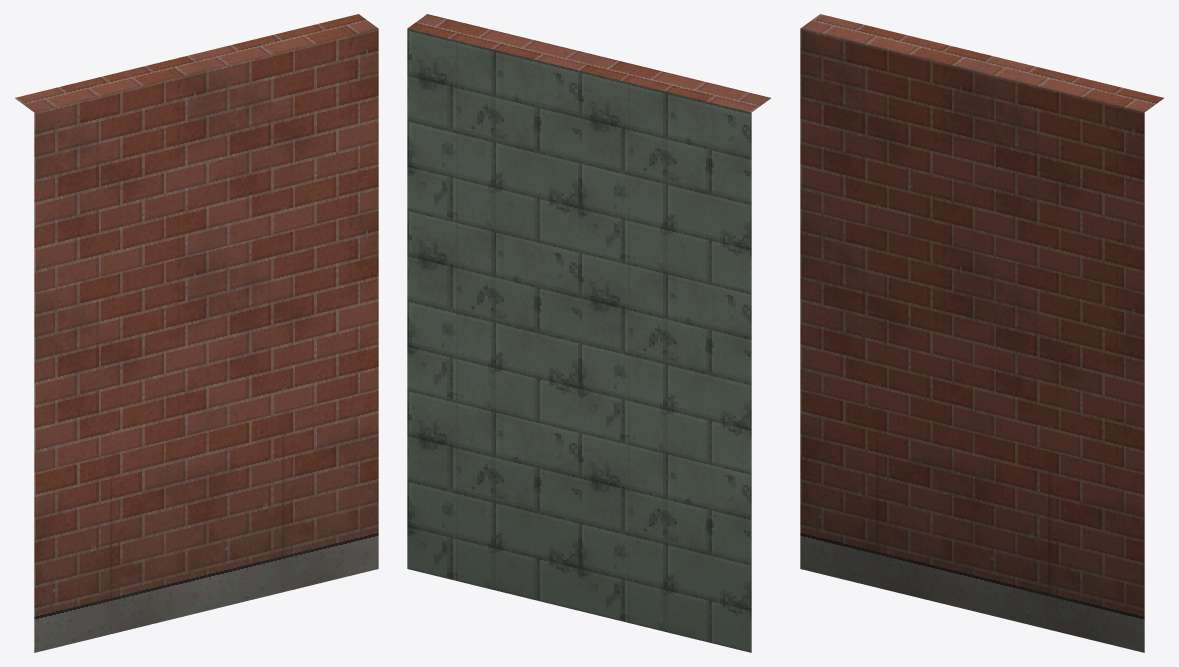
File: wall_brick_cell.glb
The picture shows the model from 3 angles, left to right: view 1: azimuth 30°, elevation 25°; view 2: azimuth 150°, elevation 25°; view 3: azimuth 330°, elevation 25°; orthographic projection.
Visible parts, largest first — view 1: wall_brick_cell; view 2: wall_brick_cell; view 3: wall_brick_cell.
Part boxes in pixels (box(x1,y1,x2,y2)): wall_brick_cell: box(15, 14, 378, 652); wall_brick_cell: box(407, 14, 770, 652); wall_brick_cell: box(800, 14, 1163, 652).
Bounding box in the file's own units: 2 × 3 × 0.2.
Materials: 1 (1 with a texture image).
